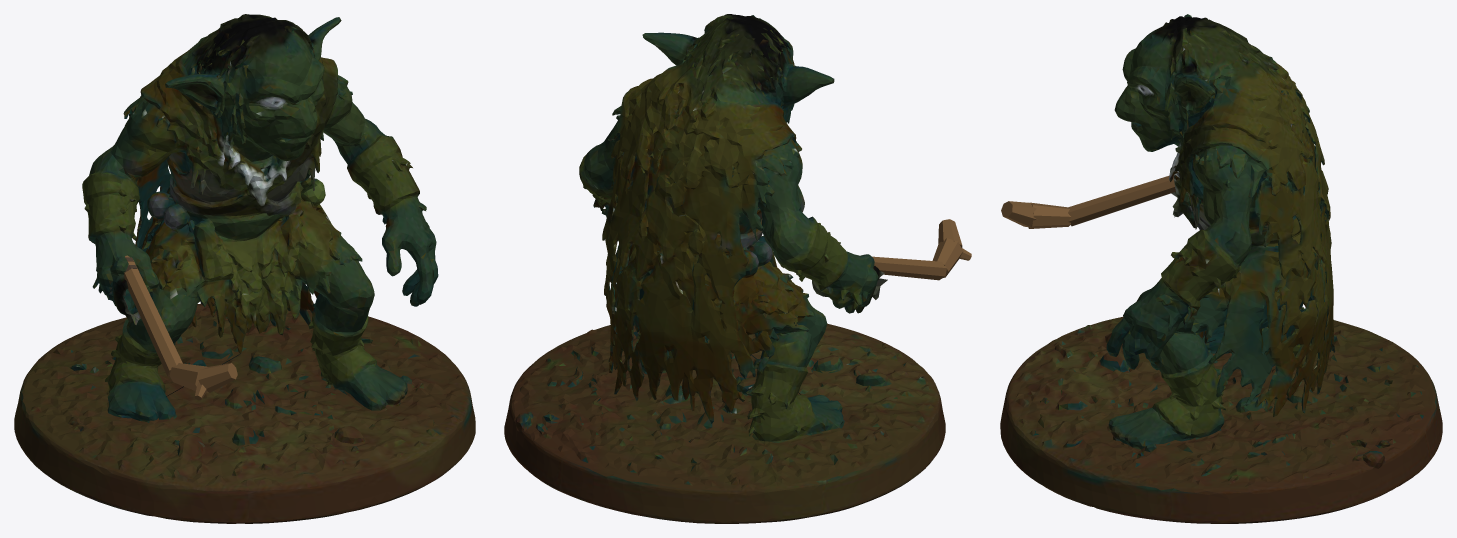
The model's file is goblinCombatente_cajado_madeira_sem_escudo.glb.
The picture shows the model from 3 angles, left to right: view 1: azimuth 30°, elevation 25°; view 2: azimuth 150°, elevation 25°; view 3: azimuth 270°, elevation 25°; orthographic projection. The views are drawn at different scales.
Visible parts, largest first — view 1: goblinCombatente_cajado_madeira_sem_escudo; view 2: goblinCombatente_cajado_madeira_sem_escudo; view 3: goblinCombatente_cajado_madeira_sem_escudo.
Boxes of the visible parts, left/top/right/bottom form: goblinCombatente_cajado_madeira_sem_escudo: left=14, top=14, right=475, bottom=523; goblinCombatente_cajado_madeira_sem_escudo: left=504, top=14, right=971, bottom=523; goblinCombatente_cajado_madeira_sem_escudo: left=1000, top=14, right=1442, bottom=523.
Bounding box in the file's own units: 1.94 × 1.96 × 1.91.
3 materials, 1 textured.
